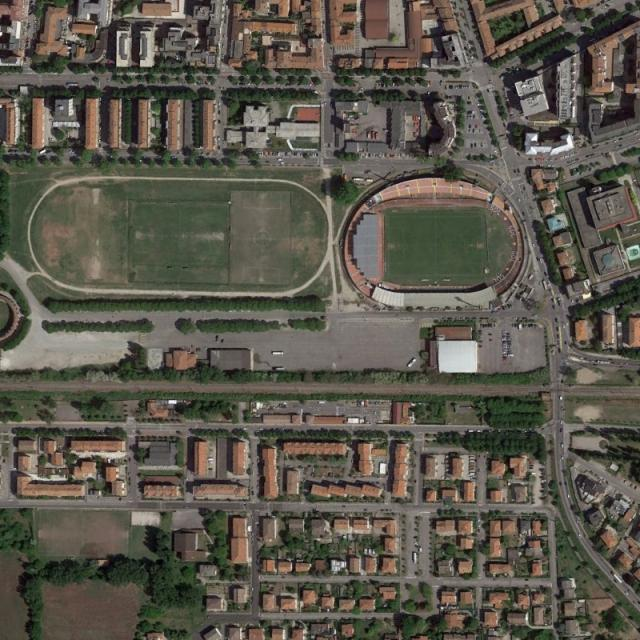vehicle: (407, 358, 417, 369), (612, 572, 622, 583), (597, 360, 610, 364), (542, 280, 547, 290), (273, 351, 284, 355), (353, 178, 364, 182), (557, 298, 562, 306), (67, 83, 78, 86), (414, 552, 417, 563), (366, 178, 374, 182), (275, 367, 285, 370), (278, 158, 284, 161)
